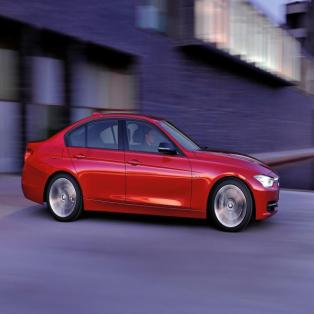Auto: (21, 112, 280, 234)
